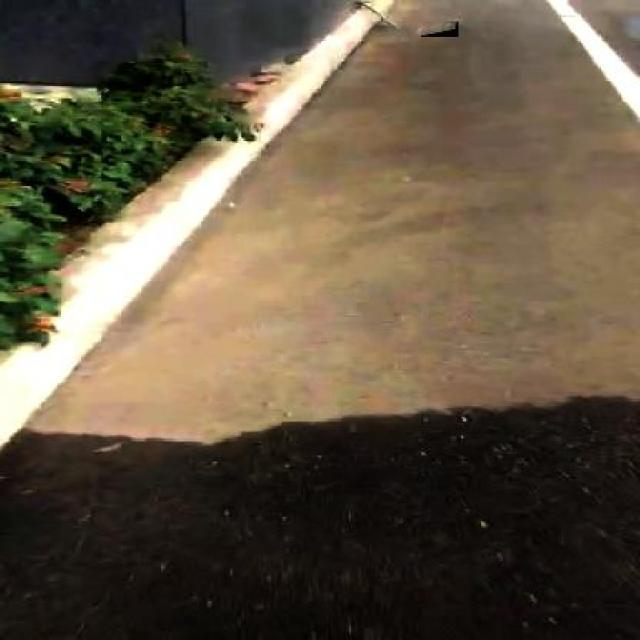Manhole: (420, 21, 458, 37)
